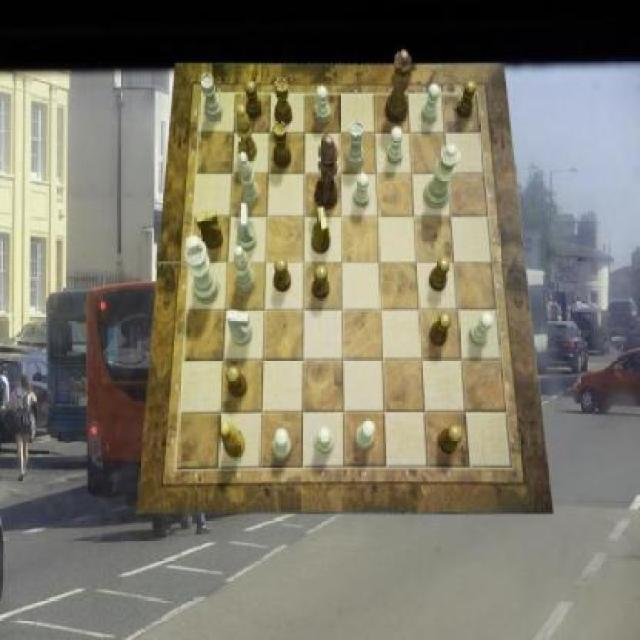bishop: (236, 105, 256, 162), (220, 422, 245, 459)
black-bishop: (316, 132, 340, 210)
black-king: (195, 209, 223, 251), (313, 208, 332, 255)
black-knight: (457, 80, 477, 120), (429, 311, 452, 345), (438, 424, 462, 456), (431, 257, 451, 291), (228, 366, 248, 399), (246, 80, 262, 120), (312, 265, 330, 299), (274, 258, 291, 292)
black-pawn: (384, 50, 412, 126)
black-queen: (272, 122, 292, 169), (275, 77, 293, 126)
black-rook: (238, 152, 261, 207), (234, 246, 257, 294)
white-bishop: (186, 236, 220, 304)
white-king: (237, 203, 257, 252), (228, 309, 252, 347)
white-knight: (469, 312, 494, 347), (422, 83, 441, 125), (356, 420, 376, 451), (354, 172, 371, 208), (388, 128, 404, 166), (317, 86, 332, 125), (274, 428, 291, 460), (316, 426, 334, 454)
white-pawn: (424, 143, 460, 209)
white-queen: (200, 74, 223, 123), (346, 121, 366, 168)
